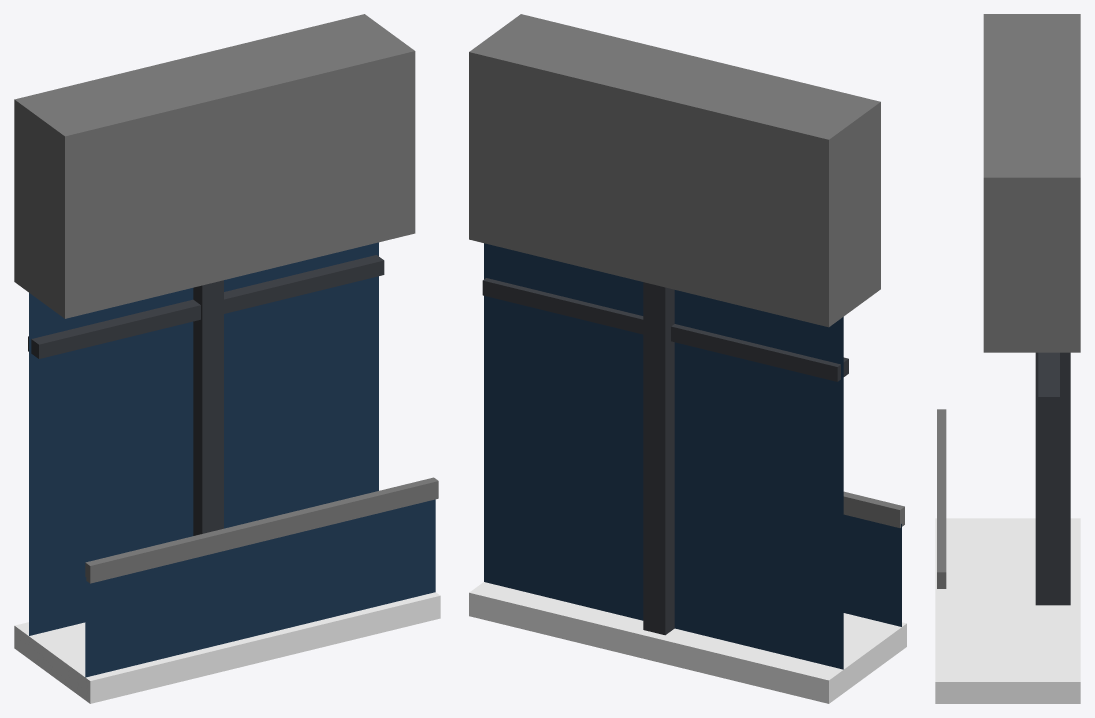
The model's file is top-w1.fbx.
3 renders of one model, left to right at view 1: azimuth 30°, elevation 25°; view 2: azimuth 150°, elevation 25°; view 3: azimuth 270°, elevation 25°, orthographic. The views are drawn at different scales.
Visible parts, largest first — view 1: M_Wall.003; view 2: M_Wall.003; view 3: M_Wall.003.
Part boxes in pixels (<box>): M_Wall.003: <box>14,14,440,703</box>; M_Wall.003: <box>469,14,906,703</box>; M_Wall.003: <box>935,14,1080,703</box>.
Bounding box in the file's own units: 4 × 5.99 × 1.5.
